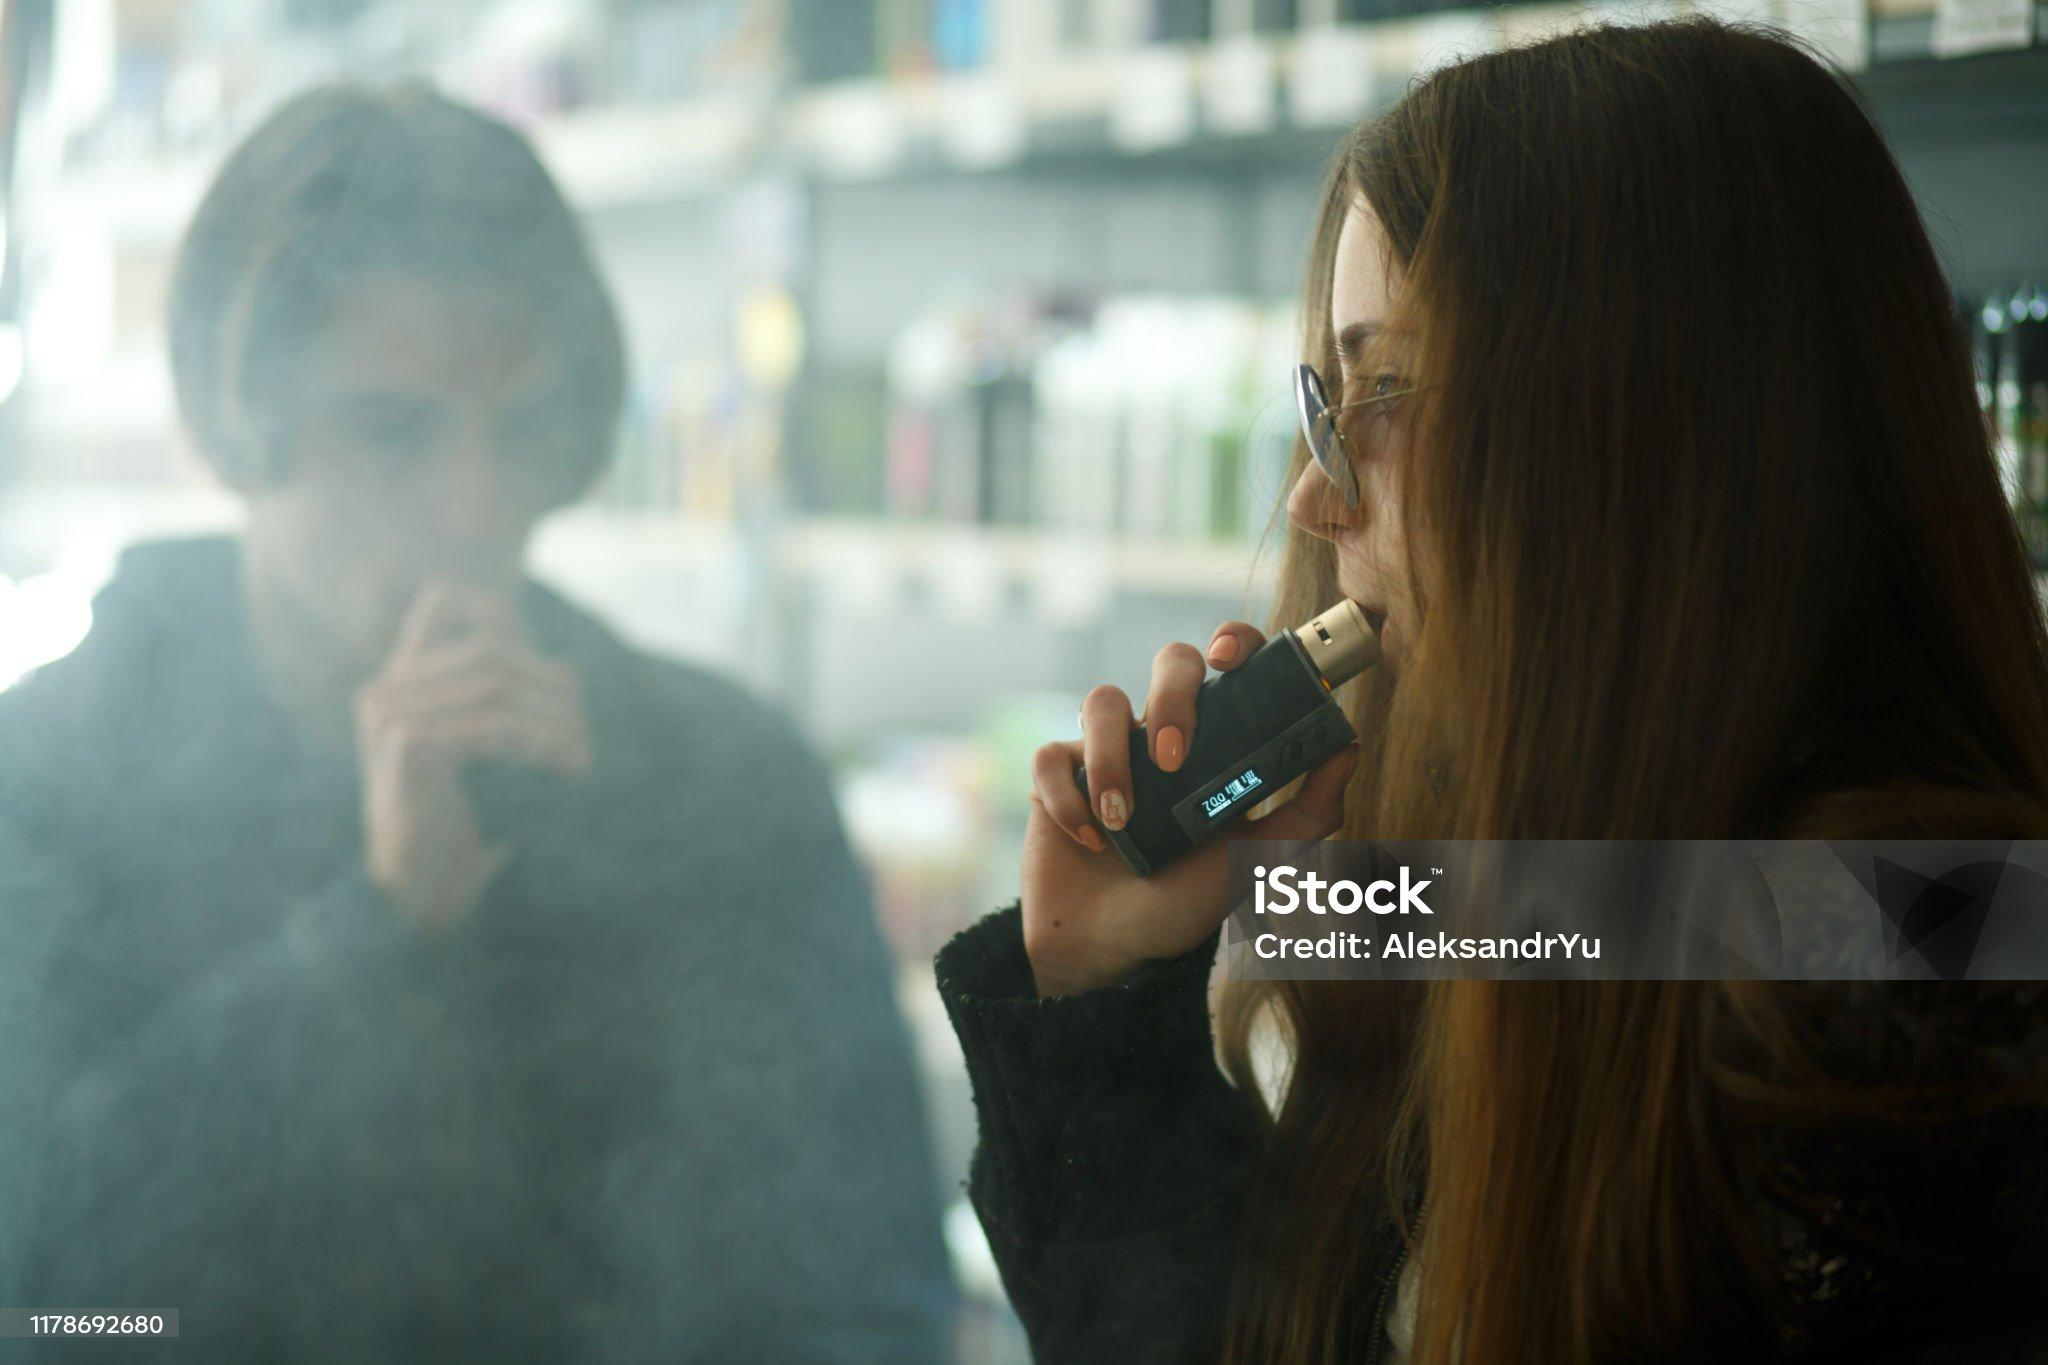Vape: (1105, 603, 1380, 876)
